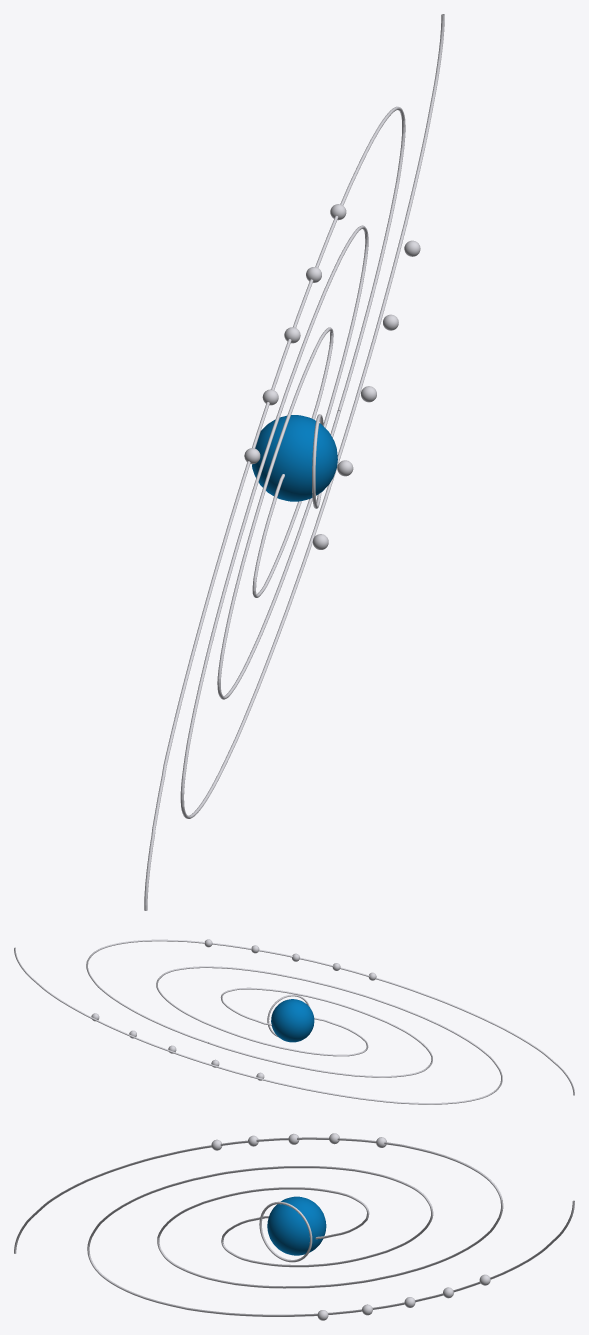
The model's file is f19noanime.glb.
3 views of the same model, one above another, from view 1: azimuth 30°, elevation 25°; view 2: azimuth 150°, elevation 25°; view 3: azimuth 270°, elevation 25° (orthographic). The views are drawn at different scales.
Visible parts, largest first — view 1: spiral, center ball; view 2: spiral, center ball; view 3: spiral, center ball, center circle.
Part boxes in pixels (x1=…): spiral: x1=144, y1=14, x2=444, y2=910; center ball: x1=252, y1=415, x2=337, y2=501; spiral: x1=14, y1=939, x2=574, y2=1104; center ball: x1=271, y1=999, x2=314, y2=1042; spiral: x1=14, y1=1137, x2=574, y2=1316; center ball: x1=267, y1=1196, x2=326, y2=1255; center circle: x1=259, y1=1201, x2=312, y2=1262.
Size of the model in its own units: 4.58 by 2.6 by 4.6.
